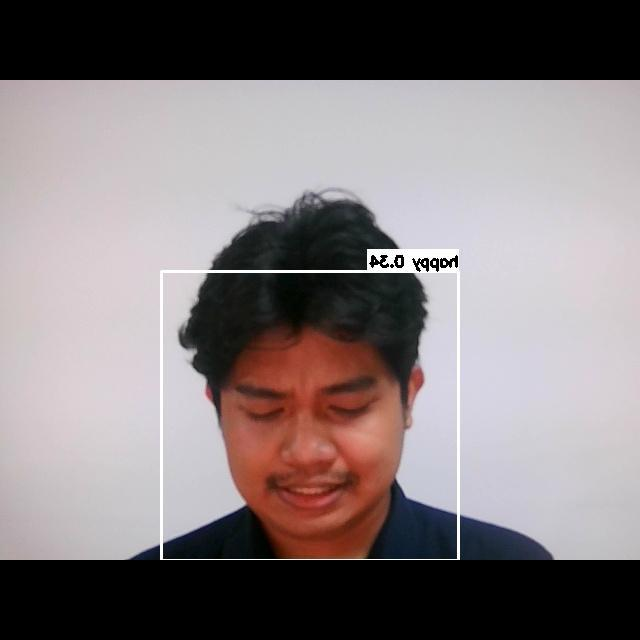Disgust: (213, 361, 407, 524)
